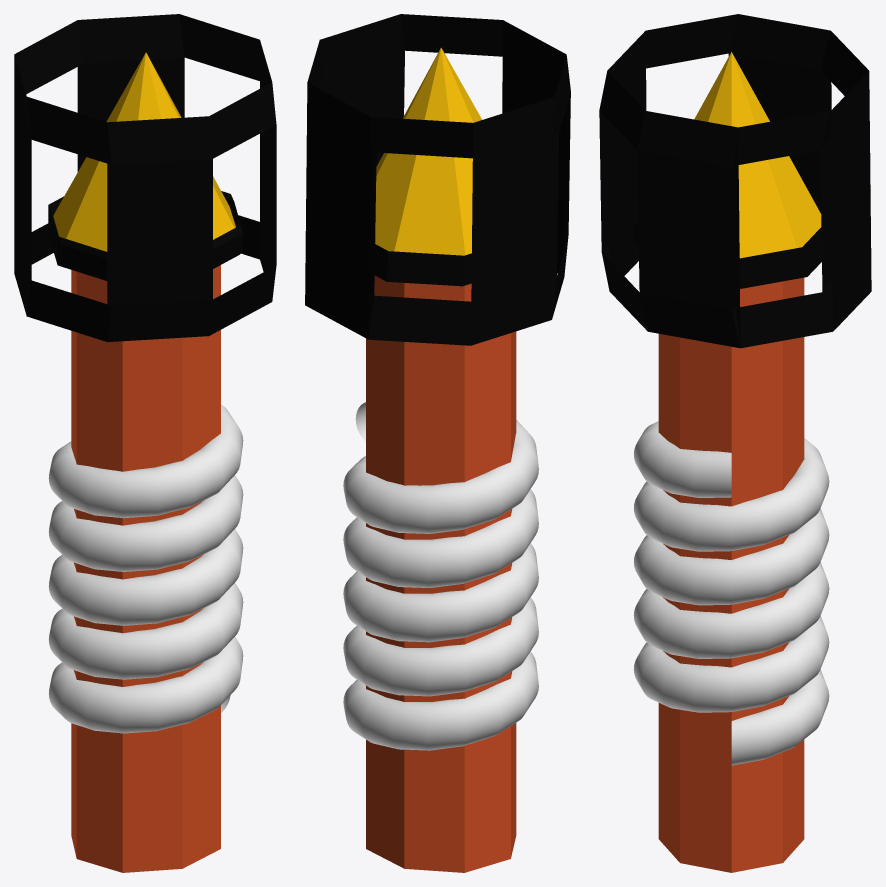
File: torch.fbx
The picture shows the model from 3 angles, left to right: view 1: azimuth 30°, elevation 25°; view 2: azimuth 150°, elevation 25°; view 3: azimuth 270°, elevation 25°; orthographic projection.
Visible parts, largest first — view 1: Circle.001, Circle, Cylinder, Cone; view 2: Circle.001, Circle, Cylinder, Cone; view 3: Circle.001, Circle, Cylinder, Cone.
Part boxes in pixels (box(x1,y1,x2,y2)): Circle.001: box(14, 14, 276, 342); Circle: box(48, 405, 243, 733); Cylinder: box(71, 265, 220, 872); Cone: box(53, 52, 235, 251); Circle.001: box(305, 14, 570, 345); Circle: box(343, 402, 538, 750); Cylinder: box(366, 275, 516, 872); Cone: box(375, 47, 481, 255); Circle.001: box(599, 14, 871, 348); Circle: box(633, 421, 829, 765); Cylinder: box(658, 277, 804, 872); Cone: box(694, 52, 821, 258).
Bounding box in the file's own units: 33.43 × 108 × 33.74.
